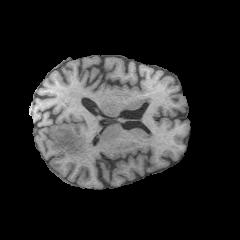glioma: (49, 128, 90, 157)
